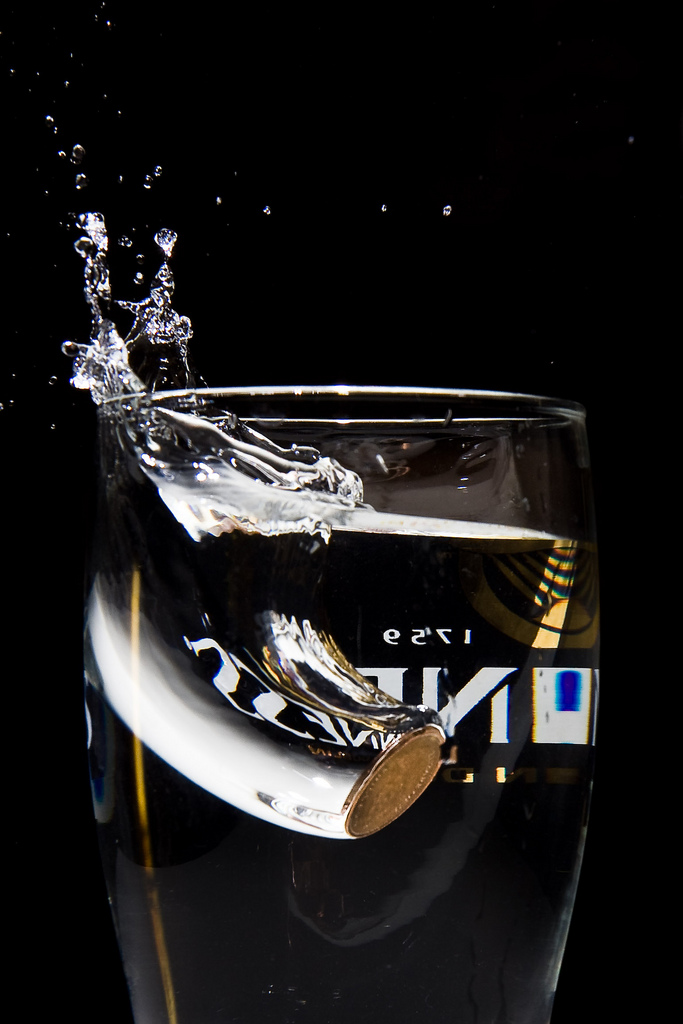glass of water: (99, 390, 580, 1018)
